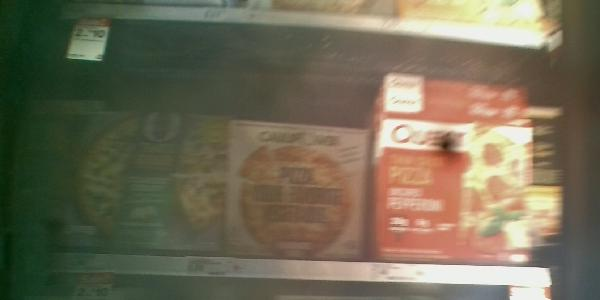pizza: (38, 106, 221, 252), (381, 118, 531, 261), (231, 121, 364, 257)
pizza1: (382, 94, 528, 134), (382, 71, 526, 102)
